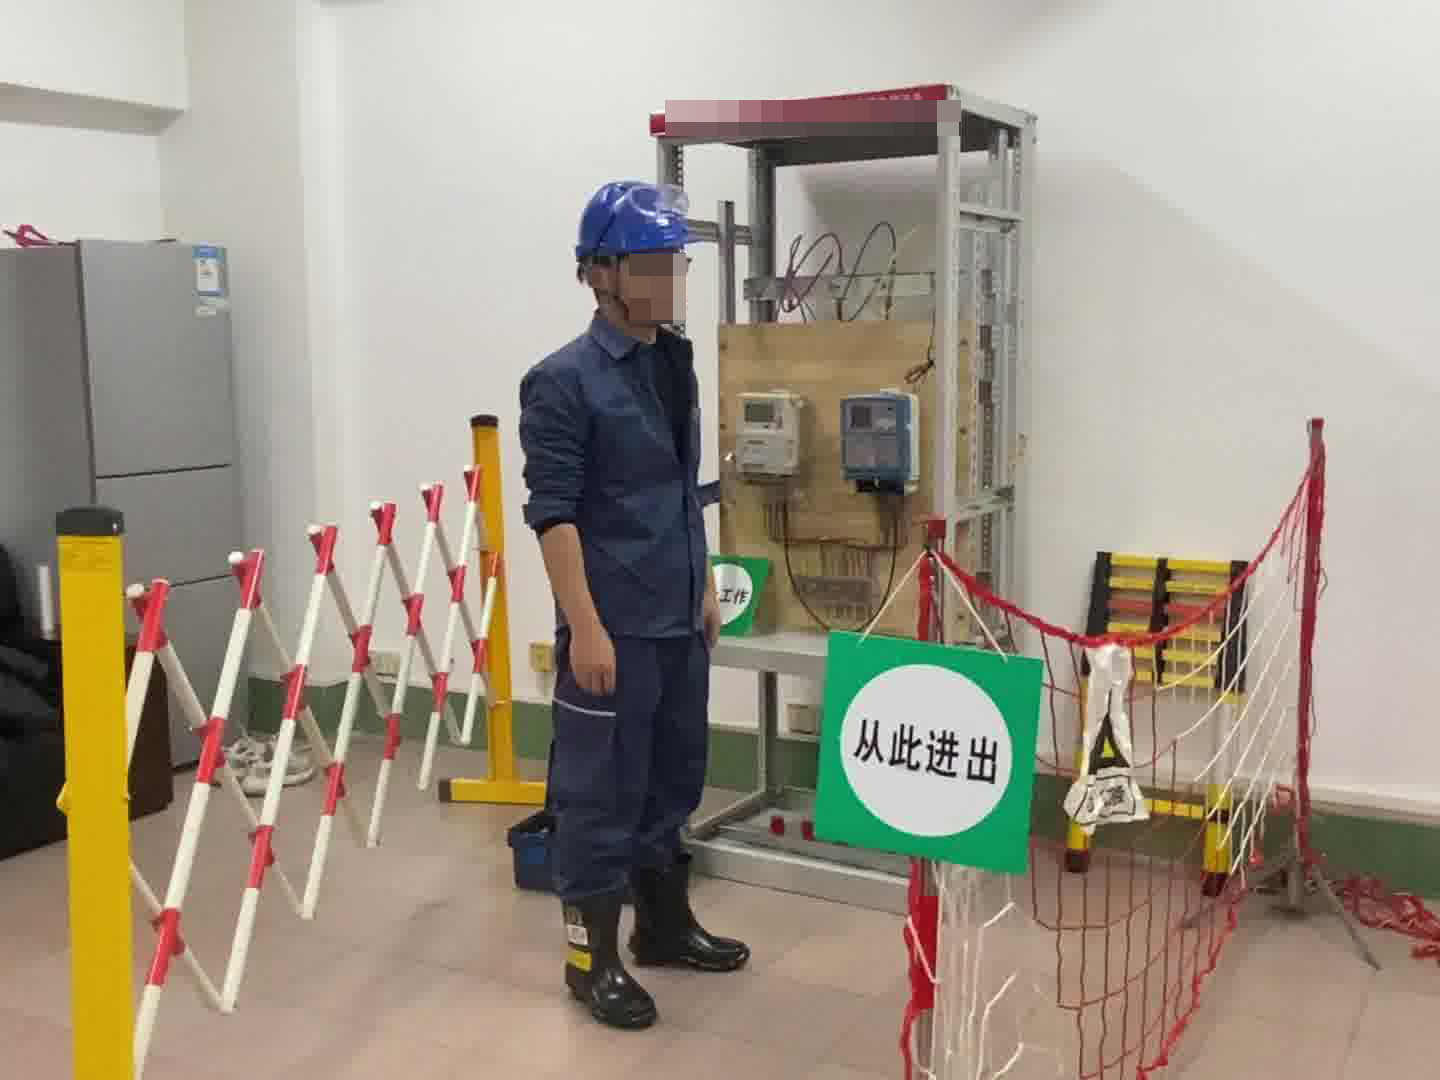downsuit: (537, 632, 714, 898)
halt: (570, 175, 703, 332)
hand: (568, 625, 619, 700), (698, 598, 724, 641)
inear: (575, 255, 637, 320)
intosign: (804, 617, 1050, 888)
person: (516, 171, 751, 1036)
shoe: (565, 858, 745, 1029)
upsuit: (521, 321, 716, 634)
worksign: (700, 550, 778, 642)
wrongsuit: (639, 336, 707, 478)
wrongtop: (533, 506, 620, 700)
